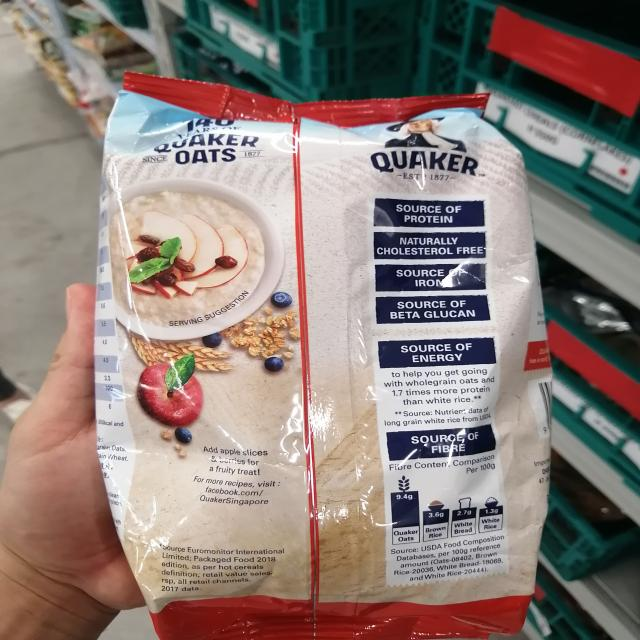object_name: (118, 86, 535, 640)
